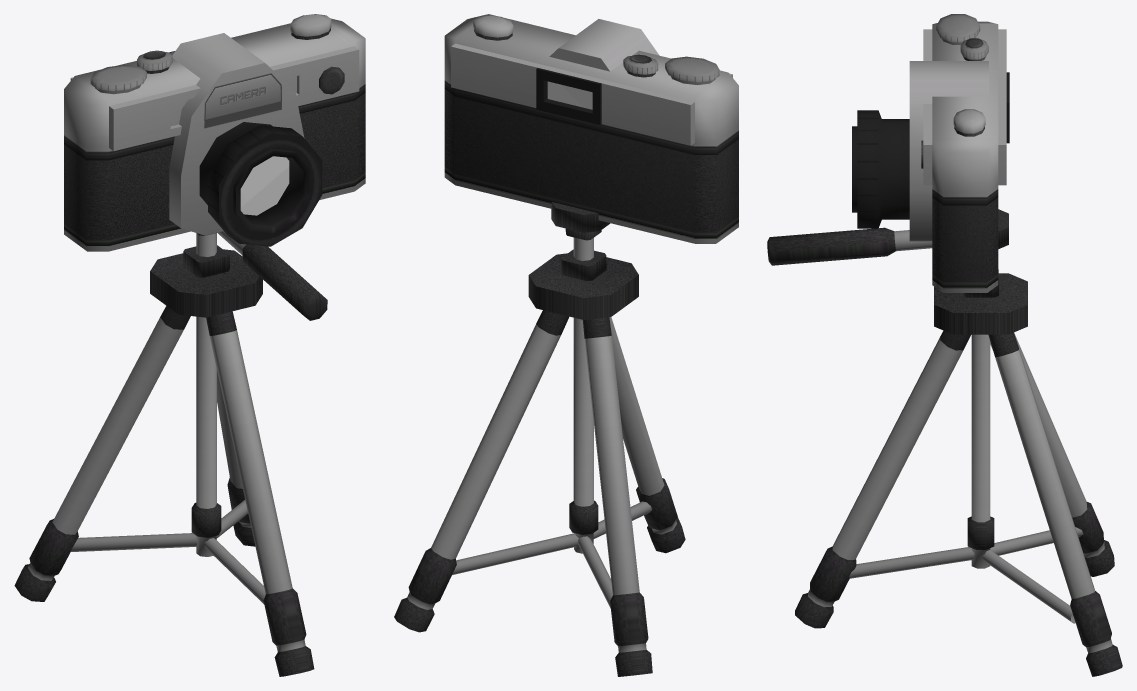
File: CameraTripodHand.fbx
The picture shows the model from 3 angles, left to right: view 1: azimuth 30°, elevation 25°; view 2: azimuth 150°, elevation 25°; view 3: azimuth 270°, elevation 25°; orthographic projection. The views are drawn at different scales.
Parts seen in each view (by area): view 1: FishInvItem, FishInvItem (1); view 2: FishInvItem, FishInvItem (1); view 3: FishInvItem (1), FishInvItem.
Part boxes in pixels (bbox=[...]): FishInvItem: bbox=[64, 14, 365, 251]; FishInvItem (1): bbox=[14, 231, 327, 676]; FishInvItem: bbox=[444, 14, 738, 243]; FishInvItem (1): bbox=[394, 202, 685, 676]; FishInvItem (1): bbox=[767, 209, 1122, 676]; FishInvItem: bbox=[852, 14, 1009, 292].
Bounding box in the file's own units: 0.5757 × 1.14 × 0.6603.
